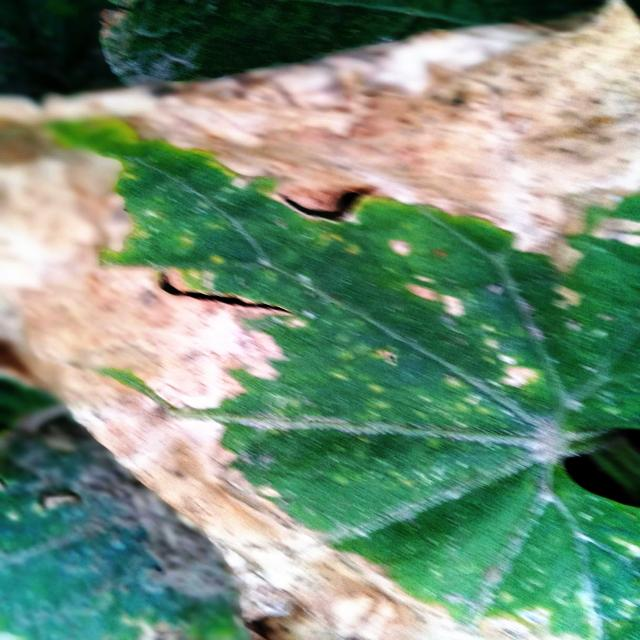Gummy-Stem-Blight: (0, 0, 638, 640)
